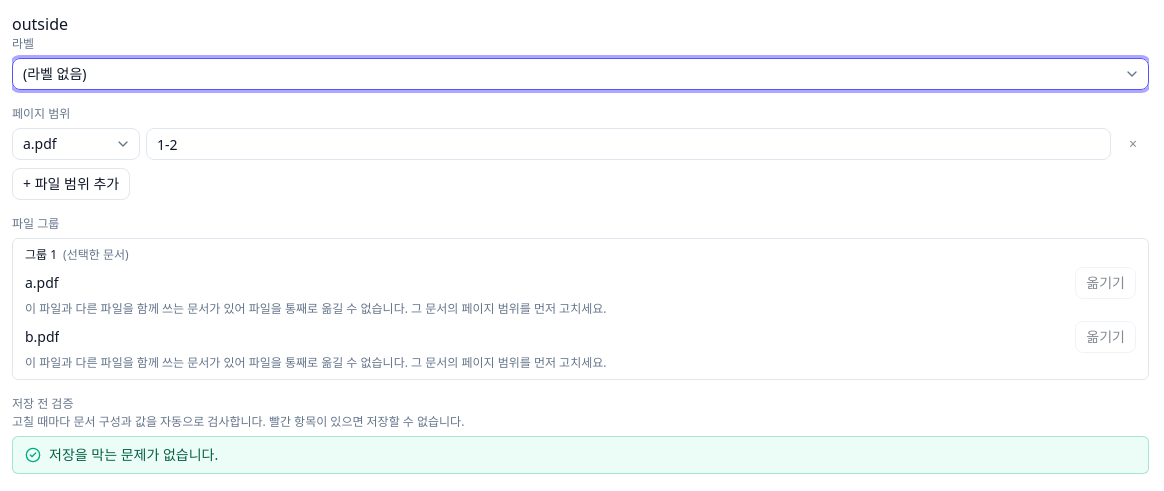
Test case: StructurePanel 라벨 select › 항목을 고르면 그 라벨로 바꾸고, 바뀐 라벨에는 없음 항목이 없다
Press Enter
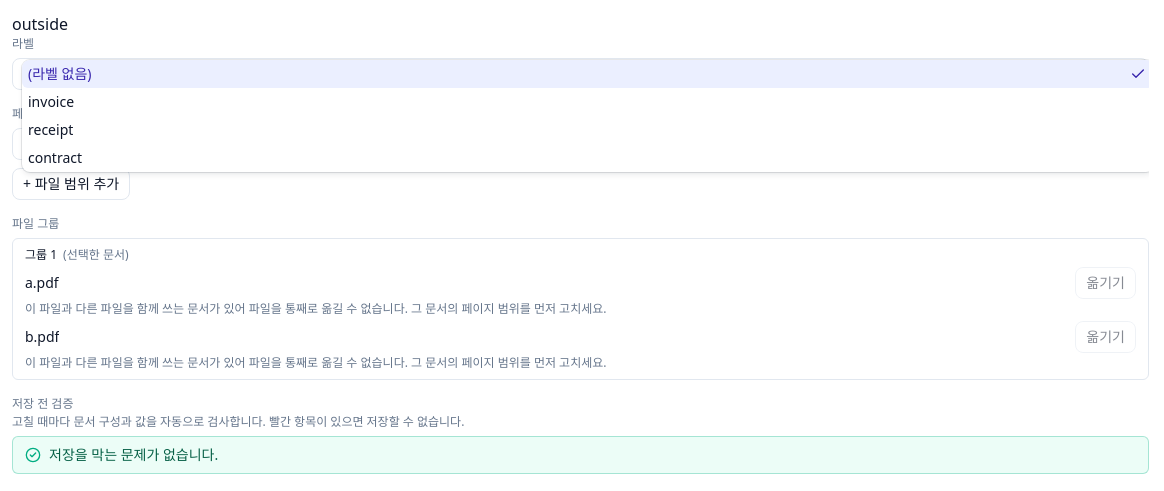
Click the option "receipt" at (51, 130), box [28,120,73,139]
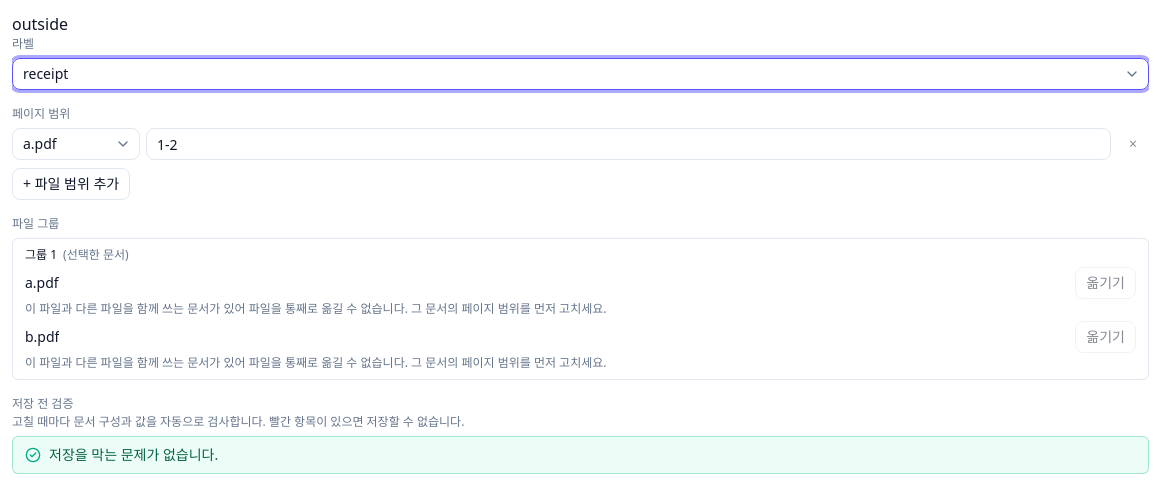
Expected: the dropdown with test id "job-review-structure-label-select" reads "receipt", [12,58,1149,90]
Press Enter
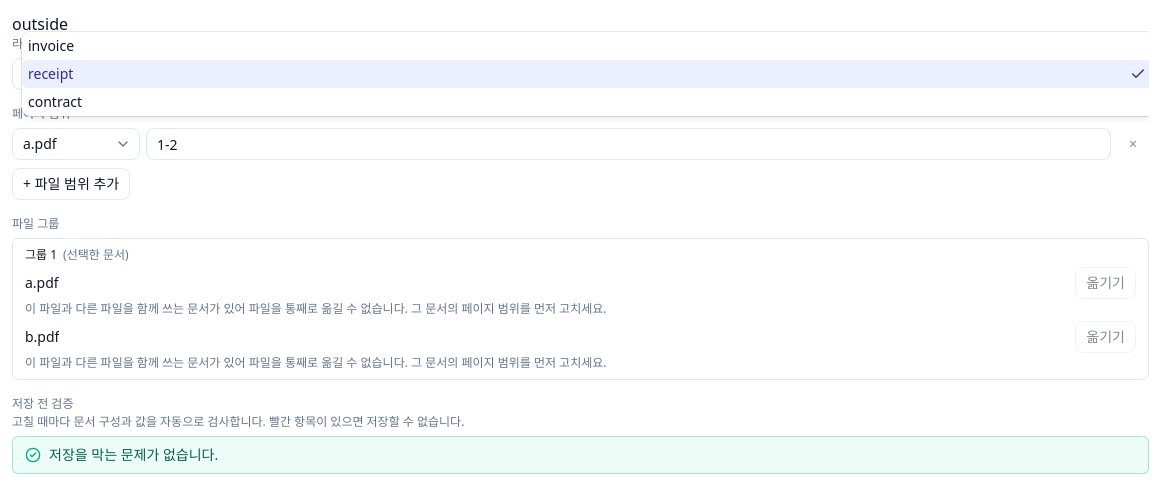
Expected: the options read "invoice", "receipt", "contract", in this order, [28,36,74,55]; [22,60,1154,88]; [28,92,82,111]
